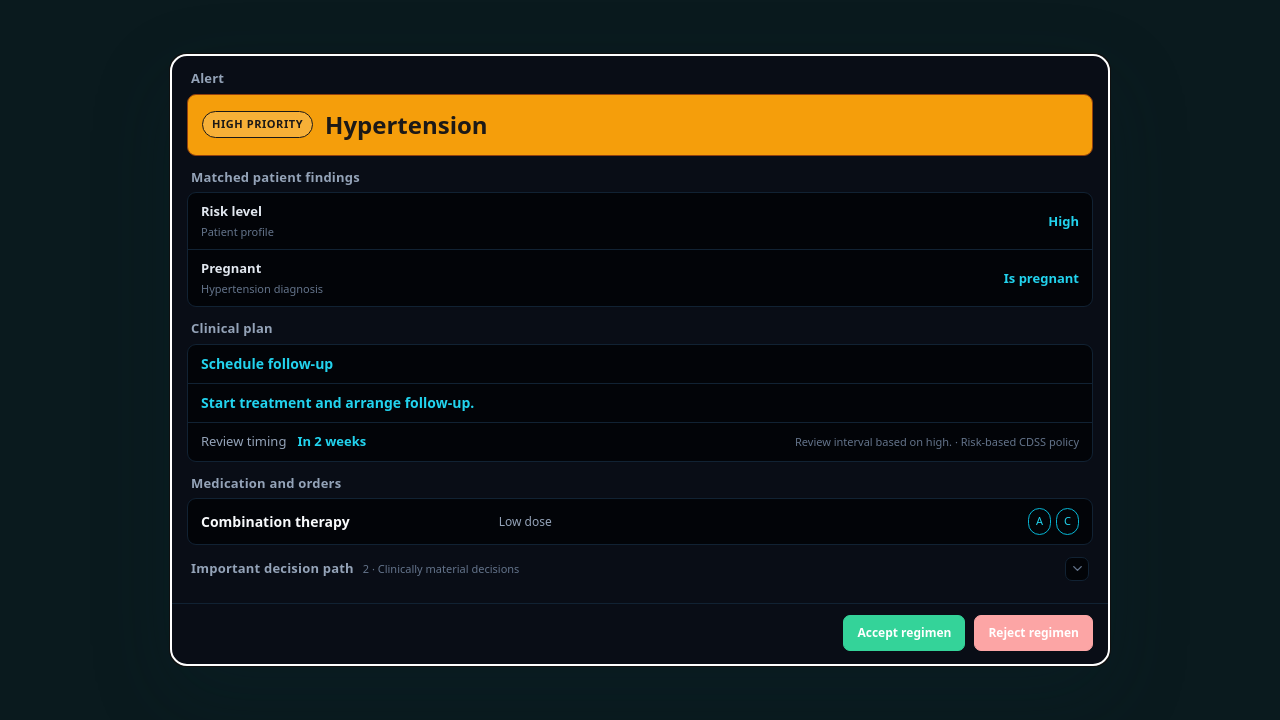
it: TraversalResultModal › keeps the material path collapsed by default and omits technical start nodes
Click the heading "Important decision path 2 · Clinically material decisions". click: (272, 568)
box: [187,557,1093,586]
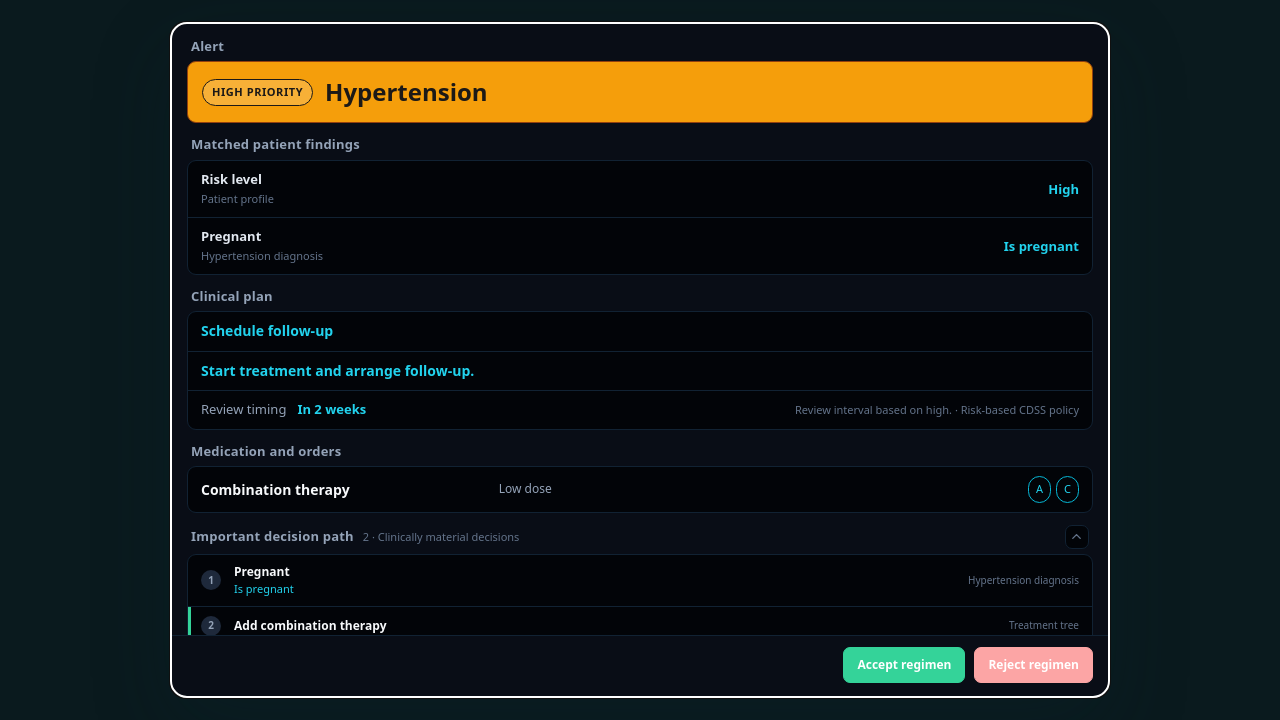
Check: the text "Pregnant" is shown, box [234,563,290,580]
